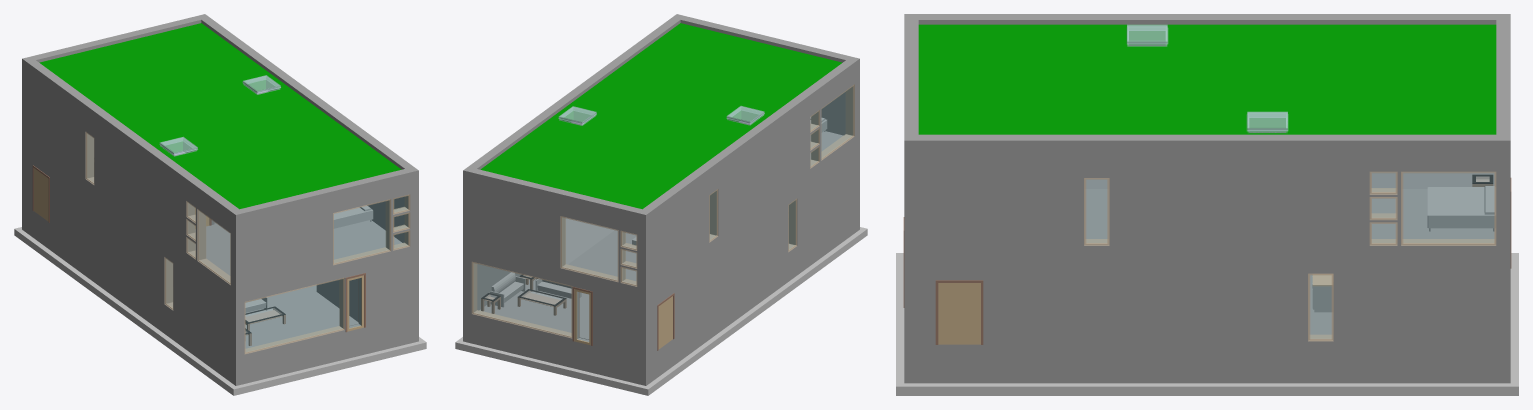
3 renders of one model, left to right at view 1: azimuth 30°, elevation 25°; view 2: azimuth 150°, elevation 25°; view 3: azimuth 270°, elevation 25°, orthographic. The views are drawn at different scales.
Visible parts, largest first — view 1: 09g7Eo3WDEihdnsYS1YDoI, 2O2Fr$t4X7Zf8NOew3FNhv, 2O2Fr$t4X7Zf8NOew3FLPP, 2O2Fr$t4X7Zf8NOew3FLOH, 2O2Fr$t4X7Zf8NOew3FNr2, 2O2Fr$t4X7Zf8NOew3FKE5, 2O2Fr$t4X7Zf8NOew3FKEr, 0jf0rYHfX3RAB3bSIRjmr1, 2OBrcmyk58NupXoVOHUtxr, 0jf0rYHfX3RAB3bSIRjmoa, 0jf0rYHfX3RAB3bSIRjmpw, 0kF45Qs8L9PAM9kmb1lT5t (+18 smaller); view 2: 09g7Eo3WDEihdnsYS1YDoI, 2O2Fr$t4X7Zf8NOew3FNhv, 2O2Fr$t4X7Zf8NOew3FLPP, 2O2Fr$t4X7Zf8NOew3FLQD, 2O2Fr$t4X7Zf8NOew3FNtn, 2O2Fr$t4X7Zf8NOew3FKE5, 2O2Fr$t4X7Zf8NOew3FK80, 0jf0rYHfX3RAB3bSIRjmr1, 0jf0rYHfX3RAB3bSIRjmmy, 0kF45Qs8L9PAM9kmb1lT5t, 0jf0rYHfX3RAB3bSIRjmpw, 2OBrcmyk58NupXoVOHUtgP (+18 smaller); view 3: 09g7Eo3WDEihdnsYS1YDoI, 2O2Fr$t4X7Zf8NOew3FNqI, 2O2Fr$t4X7Zf8NOew3FLR9, 2O2Fr$t4X7Zf8NOew3FK9N, 0jf0rYHfX3RAB3bSIRjmpw, 0kF45Qs8L9PAM9kmb1lT5d, 0jf0rYHfX3RAB3bSIRjmr1, 1hOSvn6df7F8_7GcBWlRGQ, 2OBrcmyk58NupXoVOHUtDX, 2OBrcmyk58NupXoVOHUtI8, 0jf0rYHfX3RAB3bSIRjmmy, 2O2Fr$t4X7Zf8NOew3FKau (+13 smaller).
Part boxes in pixels (x1,y1,x2,y2): 09g7Eo3WDEihdnsYS1YDoI: [39, 23, 401, 209]; 2O2Fr$t4X7Zf8NOew3FNhv: [27, 139, 230, 354]; 2O2Fr$t4X7Zf8NOew3FLPP: [22, 72, 235, 291]; 2O2Fr$t4X7Zf8NOew3FLOH: [236, 183, 418, 291]; 2O2Fr$t4X7Zf8NOew3FNr2: [231, 249, 410, 358]; 2O2Fr$t4X7Zf8NOew3FKE5: [27, 206, 230, 382]; 2O2Fr$t4X7Zf8NOew3FKEr: [231, 316, 410, 385]; 0jf0rYHfX3RAB3bSIRjmr1: [27, 60, 238, 224]; 2OBrcmyk58NupXoVOHUtxr: [245, 285, 358, 348]; 0jf0rYHfX3RAB3bSIRjmoa: [231, 169, 410, 228]; 0jf0rYHfX3RAB3bSIRjmpw: [201, 17, 418, 185]; 0kF45Qs8L9PAM9kmb1lT5t: [14, 227, 227, 387]; 09g7Eo3WDEihdnsYS1YDoI: [480, 23, 842, 209]; 2O2Fr$t4X7Zf8NOew3FNhv: [651, 139, 854, 354]; 2O2Fr$t4X7Zf8NOew3FLPP: [646, 72, 859, 291]; 2O2Fr$t4X7Zf8NOew3FLQD: [463, 183, 645, 291]; 2O2Fr$t4X7Zf8NOew3FNtn: [463, 247, 650, 358]; 2O2Fr$t4X7Zf8NOew3FKE5: [651, 206, 854, 382]; 2O2Fr$t4X7Zf8NOew3FK80: [463, 314, 650, 385]; 0jf0rYHfX3RAB3bSIRjmr1: [643, 60, 854, 224]; 0jf0rYHfX3RAB3bSIRjmmy: [463, 167, 650, 228]; 0kF45Qs8L9PAM9kmb1lT5t: [629, 235, 856, 395]; 0jf0rYHfX3RAB3bSIRjmpw: [468, 14, 684, 169]; 2OBrcmyk58NupXoVOHUtgP: [479, 279, 589, 339]; 09g7Eo3WDEihdnsYS1YDoI: [918, 24, 1496, 134]; 2O2Fr$t4X7Zf8NOew3FNqI: [904, 249, 1496, 344]; 2O2Fr$t4X7Zf8NOew3FLR9: [904, 159, 1510, 248]; 2O2Fr$t4X7Zf8NOew3FK9N: [904, 344, 1496, 383]; 0jf0rYHfX3RAB3bSIRjmpw: [904, 134, 1496, 159]; 0kF45Qs8L9PAM9kmb1lT5d: [896, 373, 1518, 395]; 0jf0rYHfX3RAB3bSIRjmr1: [918, 14, 1496, 24]; 1hOSvn6df7F8_7GcBWlRGQ: [935, 280, 983, 344]; 2OBrcmyk58NupXoVOHUtDX: [1370, 189, 1495, 239]; 2OBrcmyk58NupXoVOHUtI8: [1427, 186, 1495, 231]; 0jf0rYHfX3RAB3bSIRjmmy: [1496, 14, 1510, 159]; 2O2Fr$t4X7Zf8NOew3FKau: [1084, 172, 1495, 188].
Bounding box in the file's own units: 9.28 × 8.18 × 18.28.
